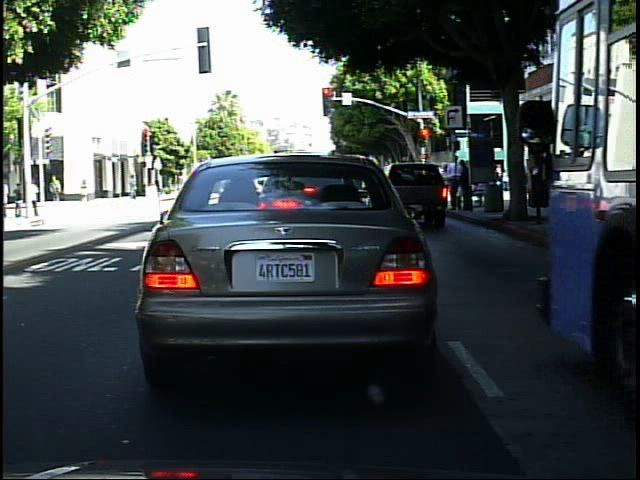person: (48, 170, 67, 203), (11, 179, 26, 220), (76, 173, 94, 207), (30, 172, 43, 216), (125, 169, 142, 202)
